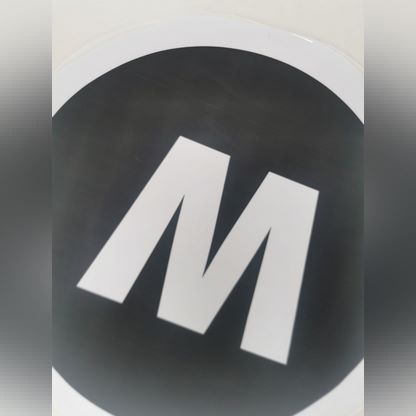W: (56, 54, 367, 400)
